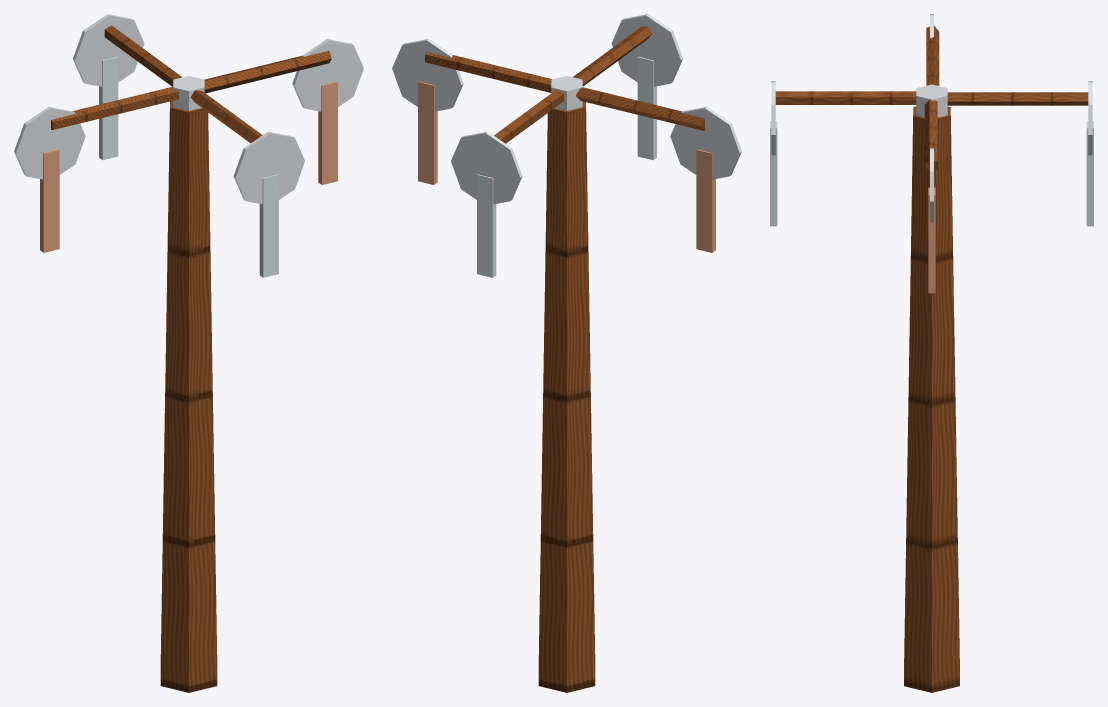
File: allotments-and-community-garden-bird-scarer-on-pole-6d86829f__35173.glb
3 views of the same model, side by side, from view 1: azimuth 30°, elevation 25°; view 2: azimuth 150°, elevation 25°; view 3: azimuth 270°, elevation 25° (orthographic).
Parts seen in each view (by area): view 1: bird-scarer-on-pole-timber, vane/galv, vane/timber, vane/terracotta, vane/glass; view 2: bird-scarer-on-pole-timber, vane/galv, vane/timber, vane/terracotta, vane/glass; view 3: bird-scarer-on-pole-timber, vane/timber, vane/galv, vane/glass, vane/terracotta.
Boxes of the visible parts, x1=… form: bird-scarer-on-pole-timber: x1=160, y1=101, x2=217, y2=692; vane/galv: x1=14, y1=14, x2=363, y2=204; vane/timber: x1=51, y1=25, x2=331, y2=143; vane/terracotta: x1=40, y1=81, x2=337, y2=252; vane/glass: x1=99, y1=56, x2=278, y2=277; bird-scarer-on-pole-timber: x1=538, y1=101, x2=595, y2=692; vane/galv: x1=392, y1=14, x2=741, y2=204; vane/timber: x1=425, y1=26, x2=704, y2=143; vane/terracotta: x1=418, y1=81, x2=715, y2=252; vane/glass: x1=477, y1=56, x2=656, y2=277; bird-scarer-on-pole-timber: x1=904, y1=106, x2=959, y2=692; vane/timber: x1=775, y1=25, x2=1088, y2=171; vane/galv: x1=771, y1=14, x2=1092, y2=222; vane/glass: x1=770, y1=121, x2=1093, y2=226; vane/terracotta: x1=928, y1=187, x2=935, y2=293.
Bounding box in the file's own units: 1.1 × 1.83 × 0.9.
4 materials, 1 textured.
